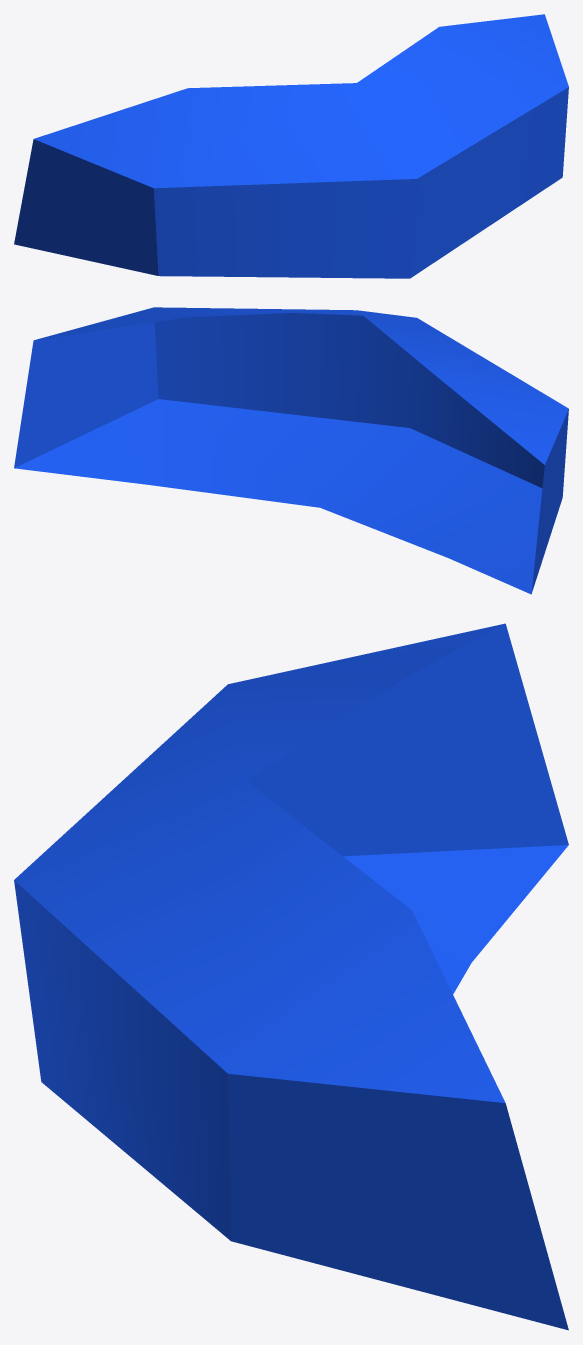
Rendered from Male_Mustache_01.fbx.
The picture shows the model from 3 angles, top to bottom: view 1: azimuth 30°, elevation 25°; view 2: azimuth 150°, elevation 25°; view 3: azimuth 270°, elevation 25°; orthographic projection. The views are drawn at different scales.
Visible parts, largest first — view 1: Male_Mustache_01; view 2: Male_Mustache_01; view 3: Male_Mustache_01.
Part boxes in pixels (x1,y1,x2,y2): Male_Mustache_01: [14, 14, 568, 278]; Male_Mustache_01: [14, 307, 568, 594]; Male_Mustache_01: [14, 623, 568, 1330].
Bounding box in the file's own units: 23.74 × 7.49 × 11.47.
